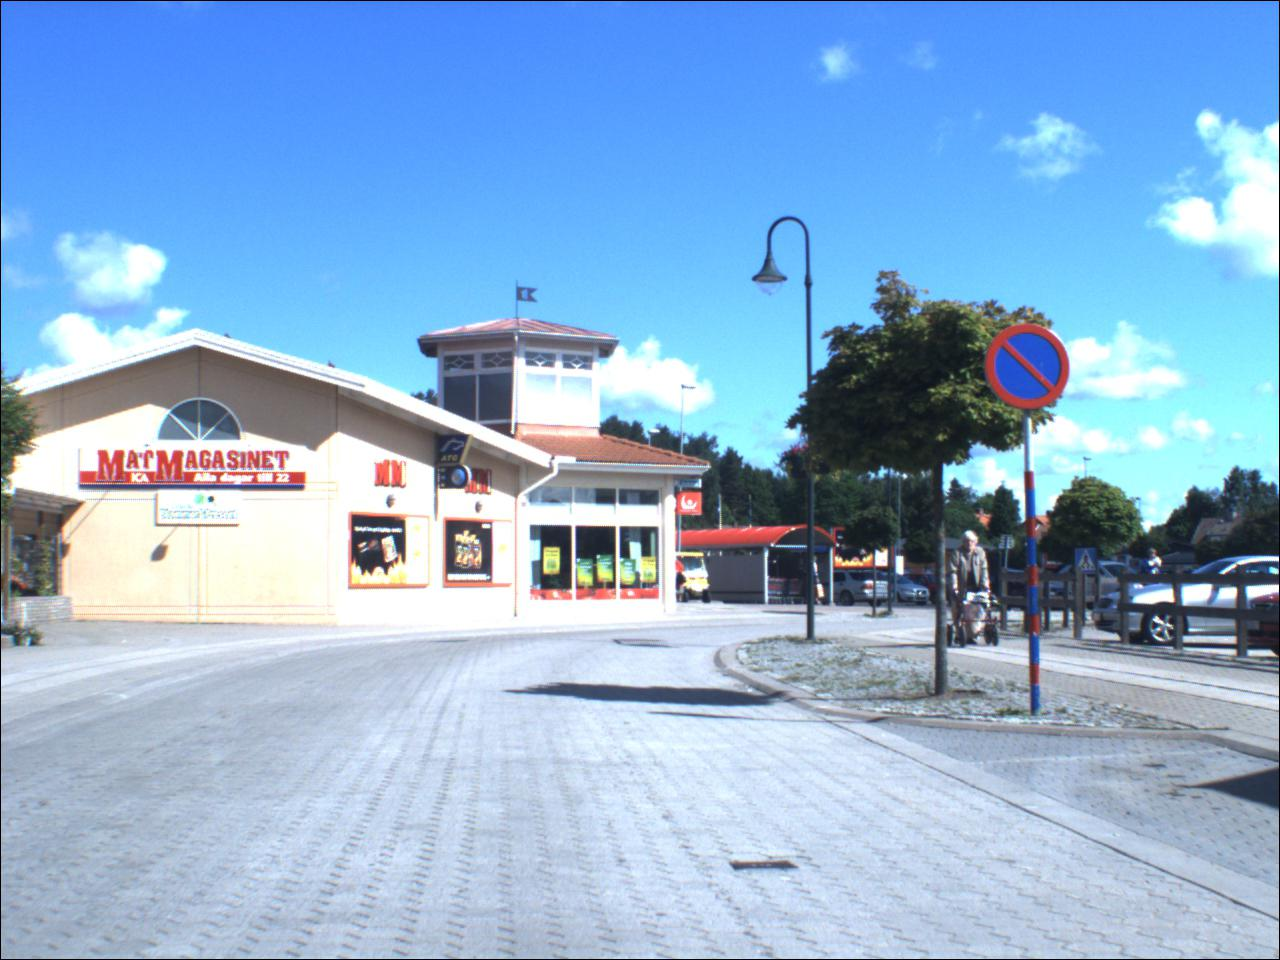NO_PARKING: (985, 321, 1074, 413)
PEDESTRIAN_CROSSING: (1077, 550, 1101, 578)
